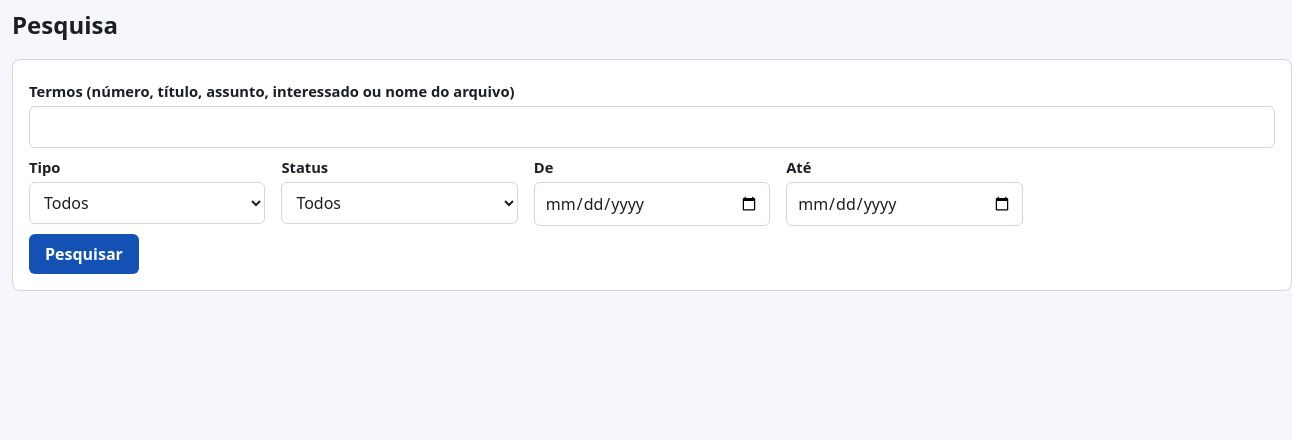
Test: monta a consulta com termos e mostra o total
This screenshot has width=1292, height=440.
Type "merenda escolar" into the search field.
click(652, 127); type("merenda escolar")  # box [29,106,1275,148]
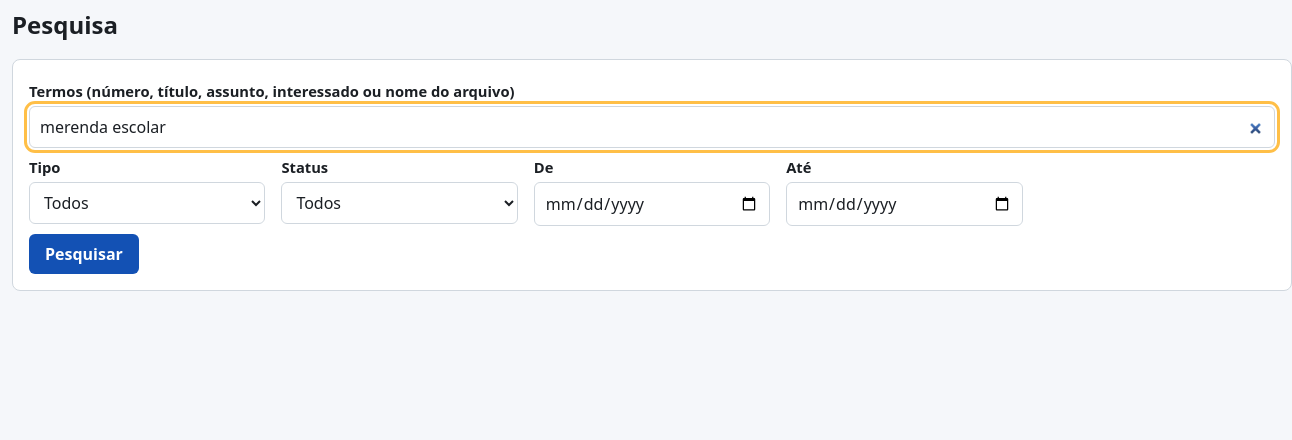
Click the button "Pesquisar".
click(84, 254)  # box [29,234,139,274]
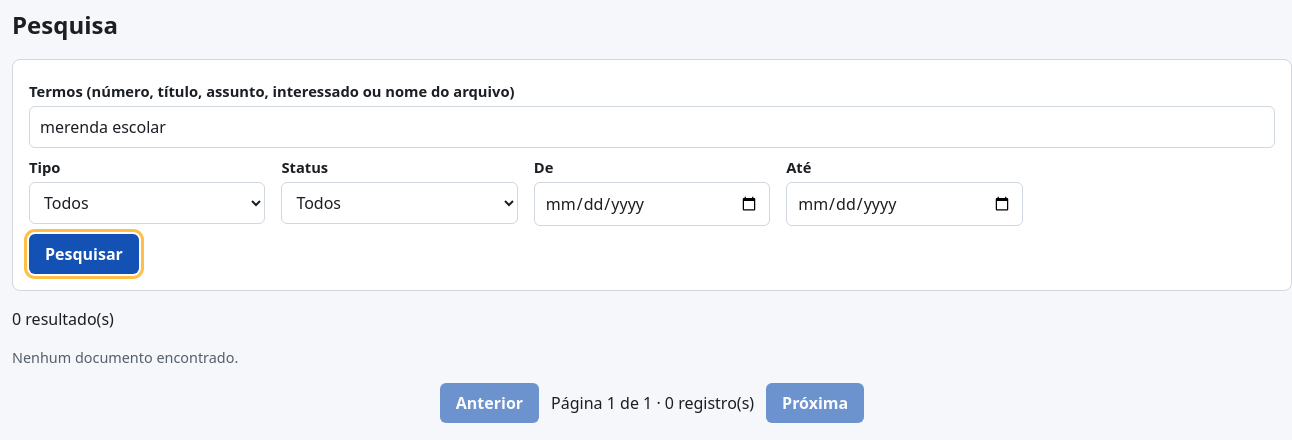
Check: the text "0 resultado(s)" is shown, box [12,308,114,330]
